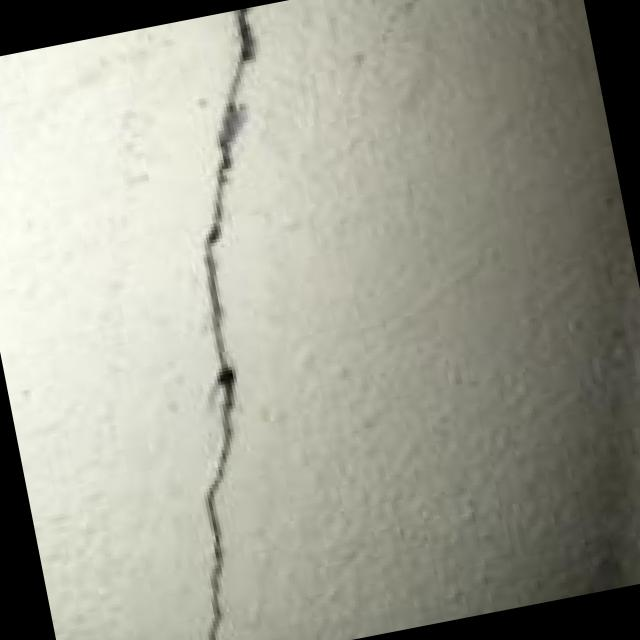crack: (55, 3, 396, 640)
